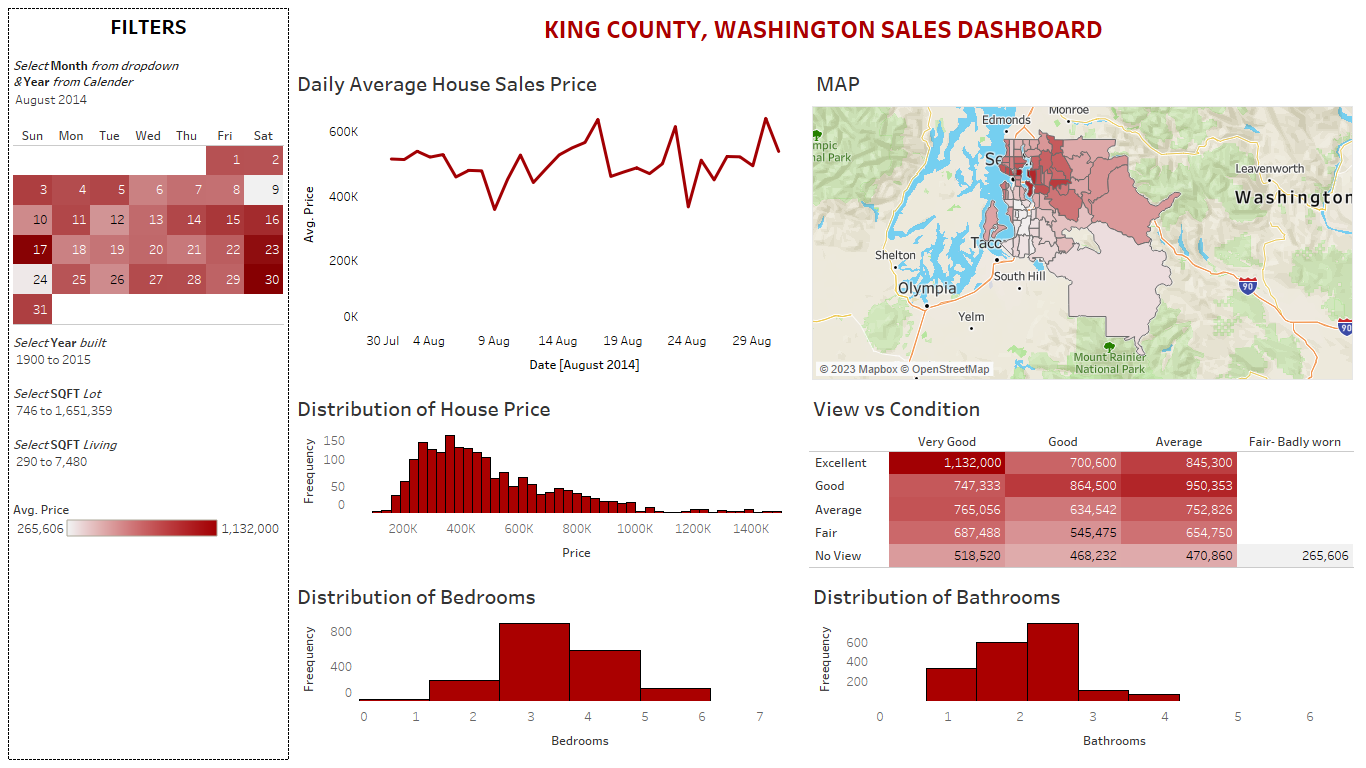

The page's visual inventory and layout, read from the dashboard file:
{"tool":"tableau","page":{"name":"Dashboard 1","canvas":[1000,1000],"units":"permille","ordinal":0},"visuals":[{"type":"text","box":[211.6,10.4,782.6,53.4]},{"type":"text","box":[6.6,11.7,204.2,43]},{"type":"blank","box":[6.6,54.7,204.2,13]},{"type":"blank","box":[211.6,63.8,782.6,13]},{"type":"filter","title":"Calender","param":"[federated.0w8pl6o1tuf4j4154akxt0m5hn5n].[my:date:ok]","box":[6.6,67.7,204.2,89.9]},{"type":"worksheet","title":"Line Chart","mark":"Automatic","rows":["price"],"cols":["date"],"box":[211.6,76.8,380.3,423.2]},{"type":"worksheet","title":"Map","mark":"Automatic","box":[591.9,76.8,402.3,423.2]},{"type":"worksheet","title":"Calender","mark":"Square","rows":["date"],"cols":["date"],"box":[6.6,157.6,204.2,270.8]},{"type":"filter","title":"Calender","param":"[federated.0w8pl6o1tuf4j4154akxt0m5hn5n].[none:yr_built:qk]","box":[6.6,428.4,204.2,66.4]},{"type":"filter","title":"Calender","param":"[federated.0w8pl6o1tuf4j4154akxt0m5hn5n].[none:sqft_lot:qk]","box":[6.6,494.8,204.2,66.4]},{"type":"worksheet","title":"Histo House Price","mark":"Automatic","rows":["price"],"cols":["Price (bin)"],"box":[211.6,500,377.7,244.8]},{"type":"worksheet","title":"Heat Map","mark":"Square","rows":["view"],"cols":["condition"],"box":[589.3,500,404.8,244.8]},{"type":"filter","title":"Calender","param":"[federated.0w8pl6o1tuf4j4154akxt0m5hn5n].[none:sqft_living:qk]","box":[6.6,561.2,204.2,66.4]},{"type":"legend","title":"Heat Map","param":"[federated.0w8pl6o1tuf4j4154akxt0m5hn5n].[avg:price:qk]","box":[6.6,641.9,204.2,84.6]},{"type":"worksheet","title":"Histo bed","mark":"Automatic","rows":["bedrooms"],"cols":["Bedrooms (bin)"],"box":[211.6,744.8,377.7,244.8]},{"type":"worksheet","title":"Histo bathroom","mark":"Automatic","rows":["bathrooms"],"cols":["Bathrooms (bin)"],"box":[589.3,744.8,404.8,244.8]}]}

Visuals, with their boxes on the dashboard's canvas, which has no fixed pixel size, in thousandths of its width and height (x1, y1, x2, y2). These are canvas units, not pixel positions in the 1366x768 screenshot, which may show the page scaled, cropped or inside an application window:
text: <box>212,10,994,64</box>
text: <box>7,12,211,55</box>
blank: <box>7,55,211,68</box>
blank: <box>212,64,994,77</box>
"Calender" filter: <box>7,68,211,158</box>
"Line Chart" worksheet: <box>212,77,592,500</box>
"Map" worksheet: <box>592,77,994,500</box>
"Calender" worksheet (Square marks): <box>7,158,211,428</box>
"Calender" filter: <box>7,428,211,495</box>
"Calender" filter: <box>7,495,211,561</box>
"Histo House Price" worksheet: <box>212,500,589,745</box>
"Heat Map" worksheet (Square marks): <box>589,500,994,745</box>
"Calender" filter: <box>7,561,211,628</box>
"Heat Map" legend: <box>7,642,211,726</box>
"Histo bed" worksheet: <box>212,745,589,990</box>
"Histo bathroom" worksheet: <box>589,745,994,990</box>
